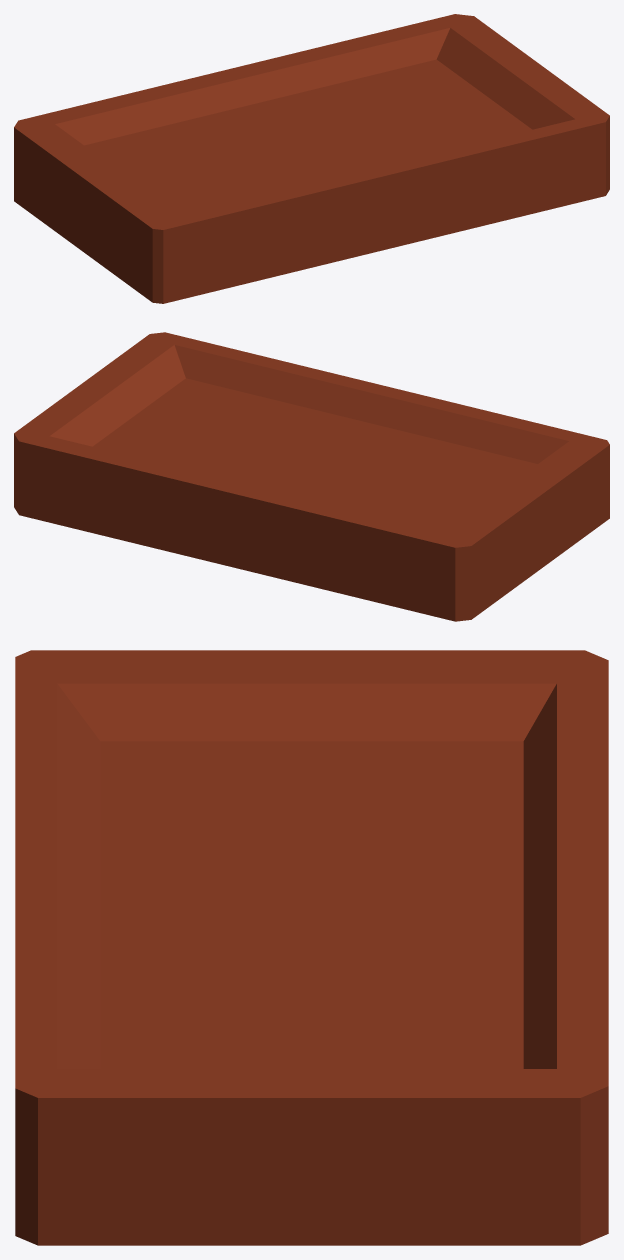
Rendered from chocolate.fbx.
The picture shows the model from 3 angles, top to bottom: view 1: azimuth 30°, elevation 25°; view 2: azimuth 150°, elevation 25°; view 3: azimuth 270°, elevation 25°; orthographic projection. The views are drawn at different scales.
Parts seen in each view (by area): view 1: Cube; view 2: Cube; view 3: Cube.
Part boxes in pixels (left/top/right/bottom): Cube: left=14, top=14, right=609, bottom=303; Cube: left=14, top=332, right=609, bottom=621; Cube: left=15, top=650, right=608, bottom=1245.
Bounding box in the file's own units: 282 × 43.36 × 158.
